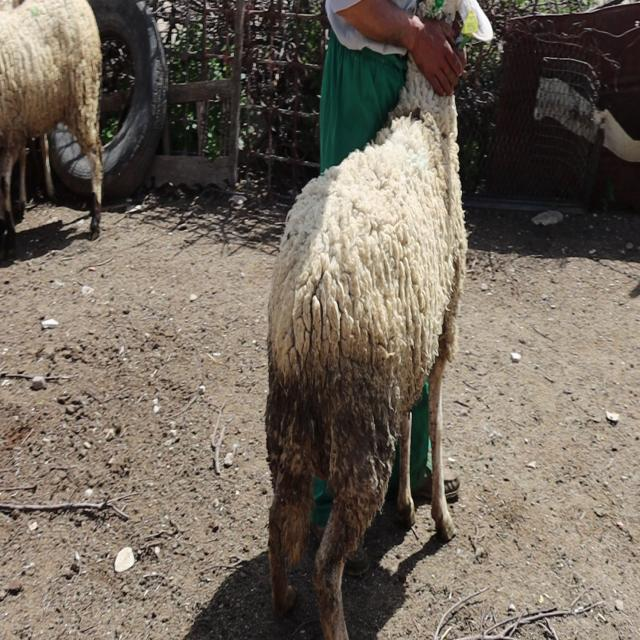Score_5: (265, 59, 467, 639)
